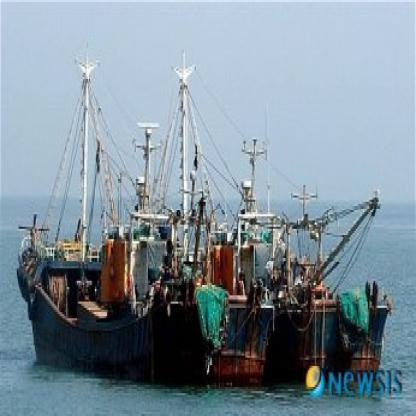fish-b: (15, 35, 408, 398)
